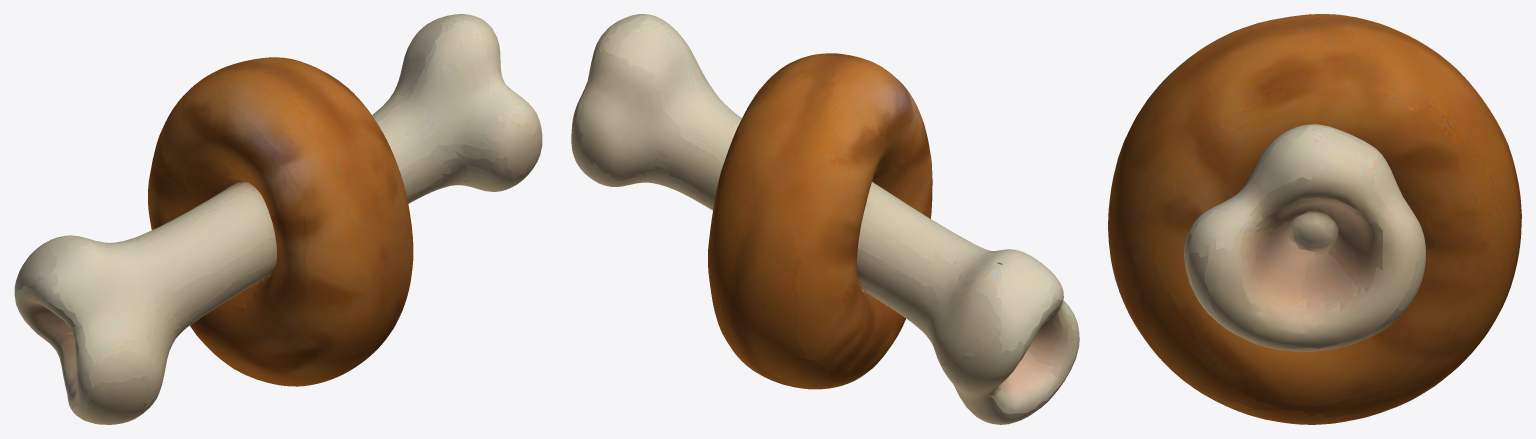
File: wish_bone.glb
3 renders of one model, left to right at view 1: azimuth 30°, elevation 25°; view 2: azimuth 150°, elevation 25°; view 3: azimuth 270°, elevation 25°, orthographic. The views are drawn at different scales.
Visible parts, largest first — view 1: world; view 2: world; view 3: world.
Part boxes in pixels (x1,y1,x2,y2): world: (14,14,542,424); world: (571,14,1079,424); world: (1108,14,1521,424).
Size of the model in its own units: 0.18 by 0.1162 by 0.1088.
Materials: 1 (1 with a texture image).
